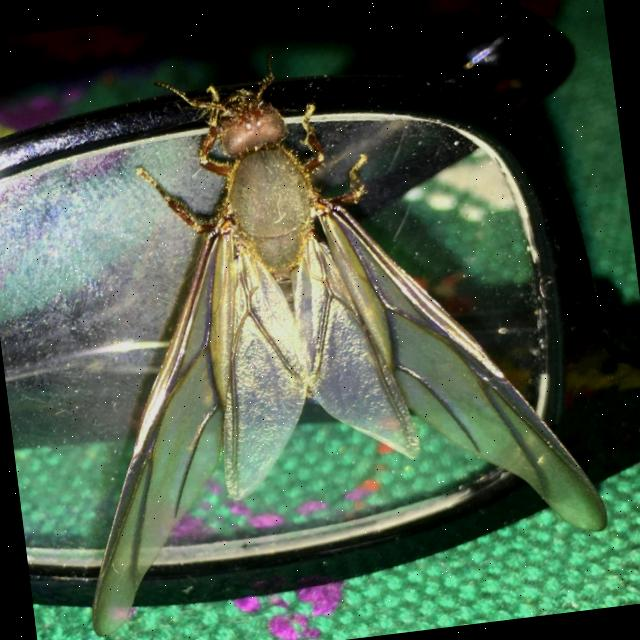Alive-Female-Alate: (25, 15, 614, 638)
